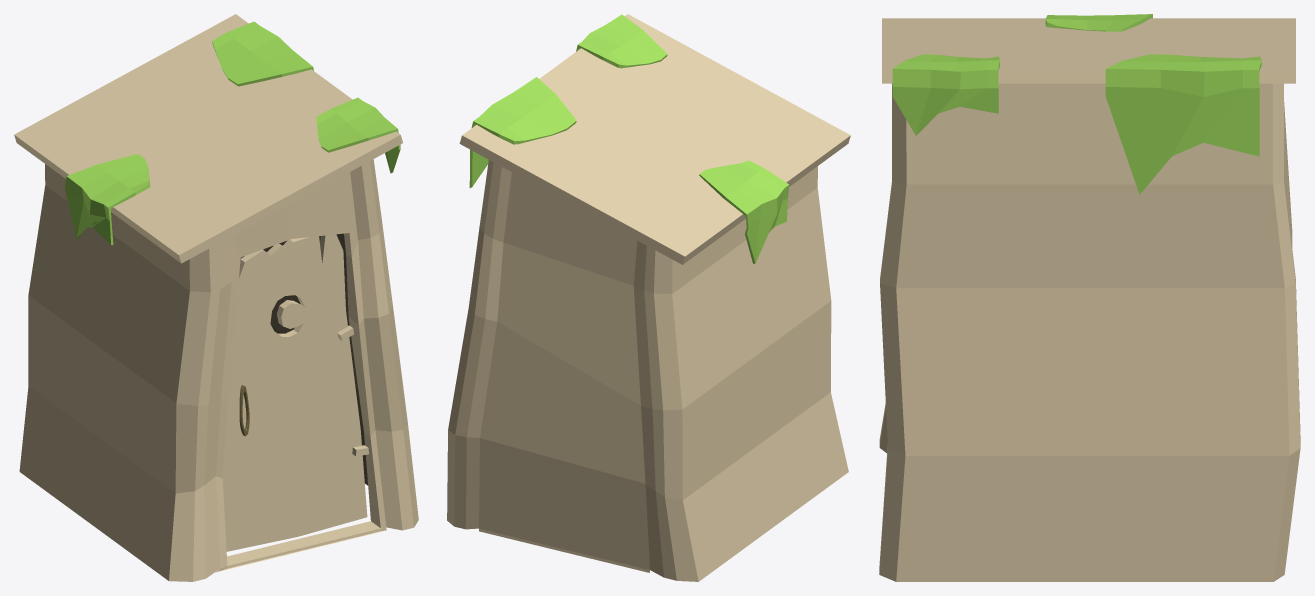
The model's file is shrek_outhouse_01.fbx.
3 views of the same model, side by side, from view 1: azimuth 30°, elevation 25°; view 2: azimuth 150°, elevation 25°; view 3: azimuth 270°, elevation 25° (orthographic). The views are drawn at different scales.
Visible parts, largest first — view 1: outhouse, outhousedoor; view 2: outhouse; view 3: outhouse.
Boxes of the visible parts, box(x1,y1,x2,y2) form: outhouse: box(14, 14, 418, 581); outhousedoor: box(222, 234, 368, 551); outhouse: box(447, 14, 850, 581); outhouse: box(879, 14, 1300, 581).
Size of the model in its own units: 294 by 441 by 337.
